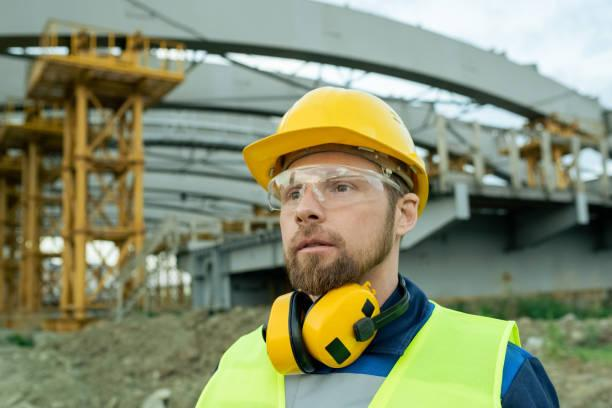goggle: (253, 154, 420, 219)
helmet: (228, 68, 435, 220)
vest: (187, 274, 539, 408)
